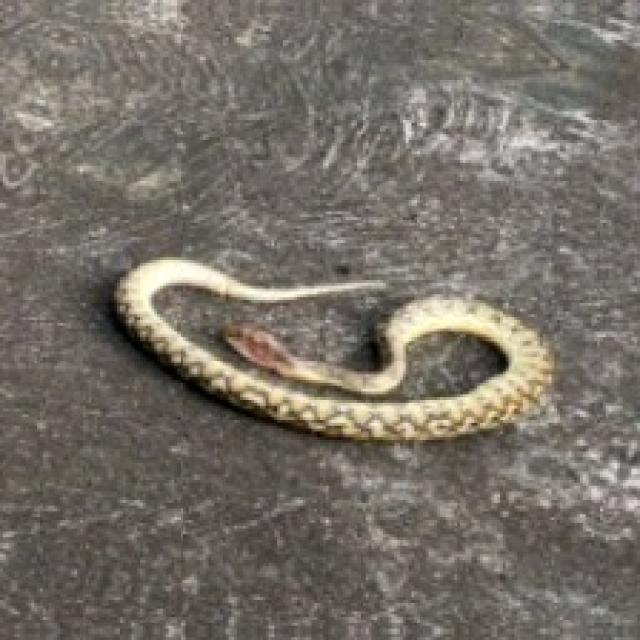reticulated python: (114, 257, 551, 440), (374, 329, 506, 400)
